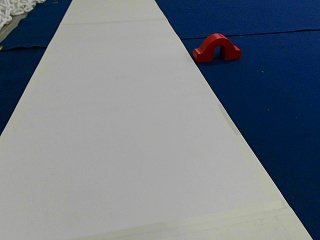bridge: (194, 33, 240, 60)
